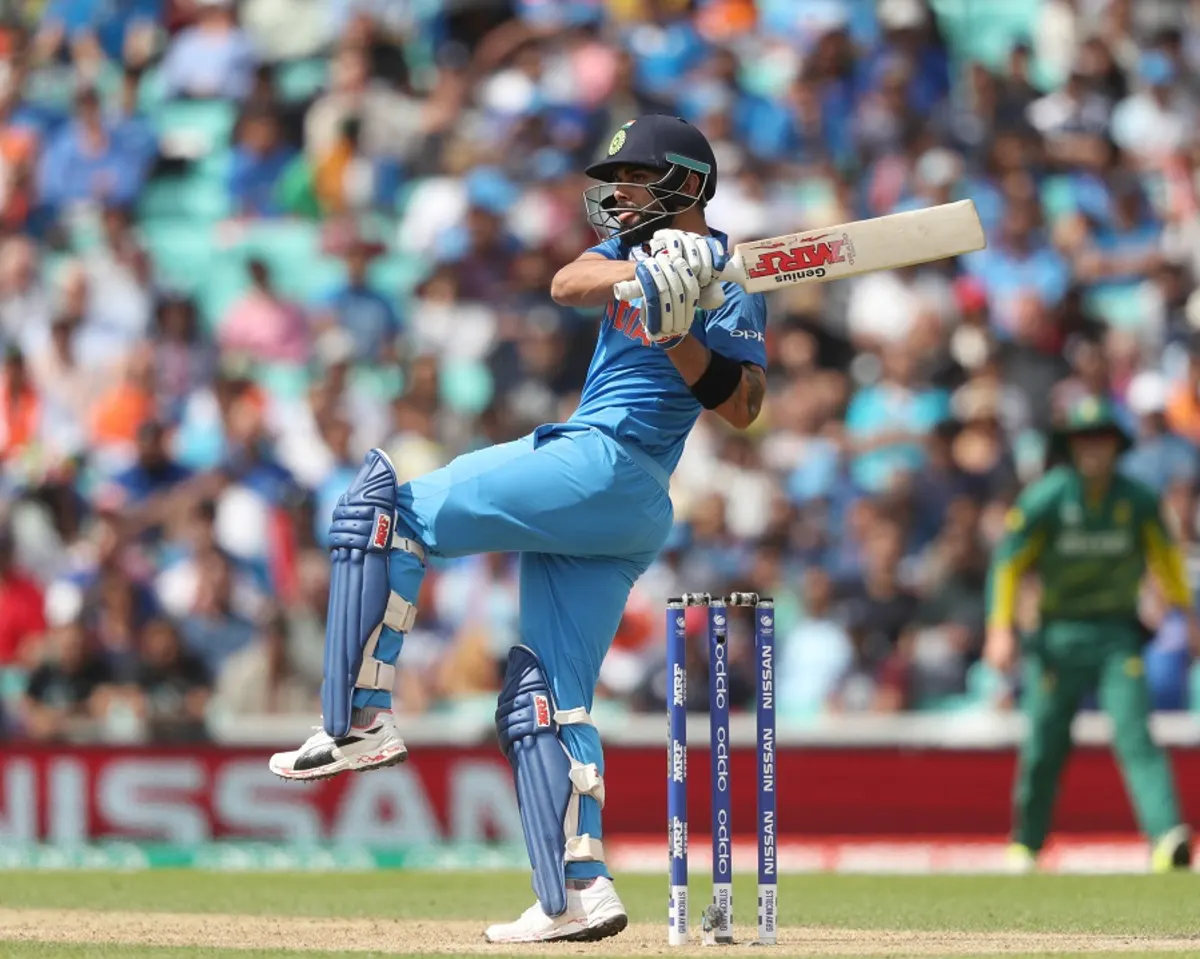Pullshot: (248, 0, 1011, 958)
